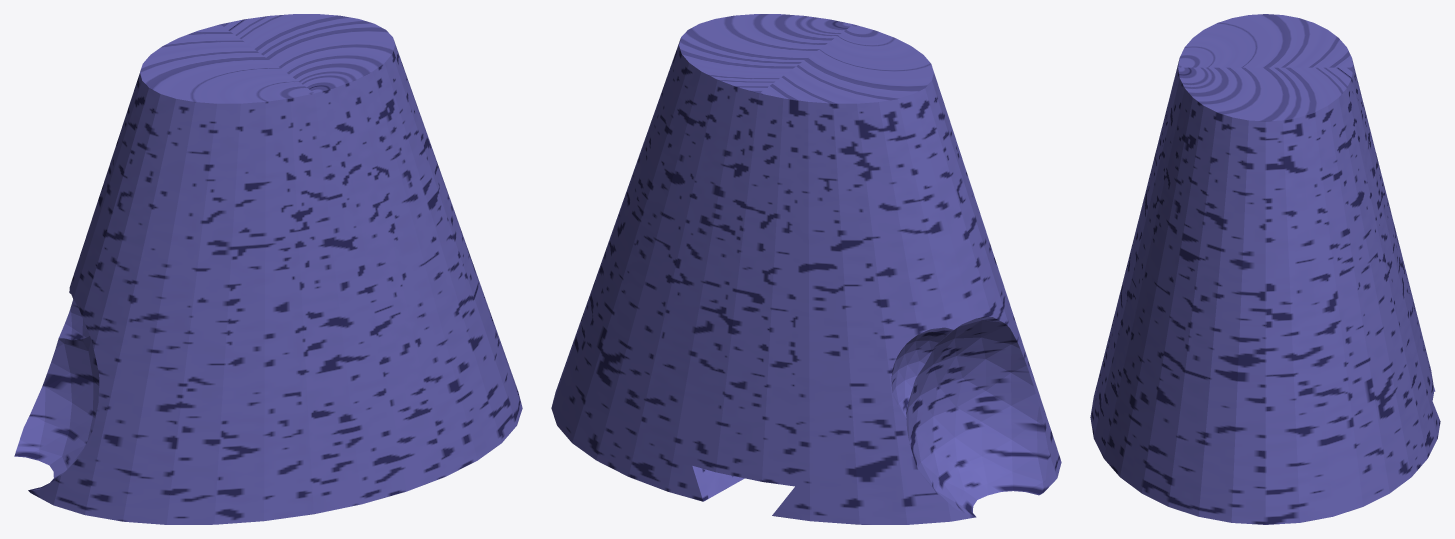
3 renders of one model, left to right at view 1: azimuth 30°, elevation 25°; view 2: azimuth 150°, elevation 25°; view 3: azimuth 270°, elevation 25°, orthographic. The views are drawn at different scales.
Visible parts, largest first — view 1: geometry_0; view 2: geometry_0; view 3: geometry_0.
Part boxes in pixels (x1,y1,x2,y2): geometry_0: (14, 14, 522, 524); geometry_0: (551, 14, 1061, 524); geometry_0: (1090, 14, 1440, 524).
Bounding box in the file's own units: 1.61 × 1.22 × 1.11.
Materials: 1 (1 with a texture image).
